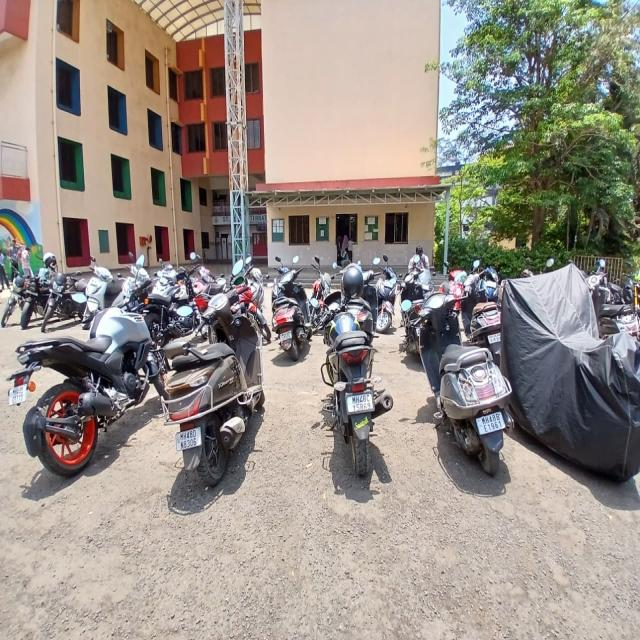Legalparking: (0, 244, 640, 609)
